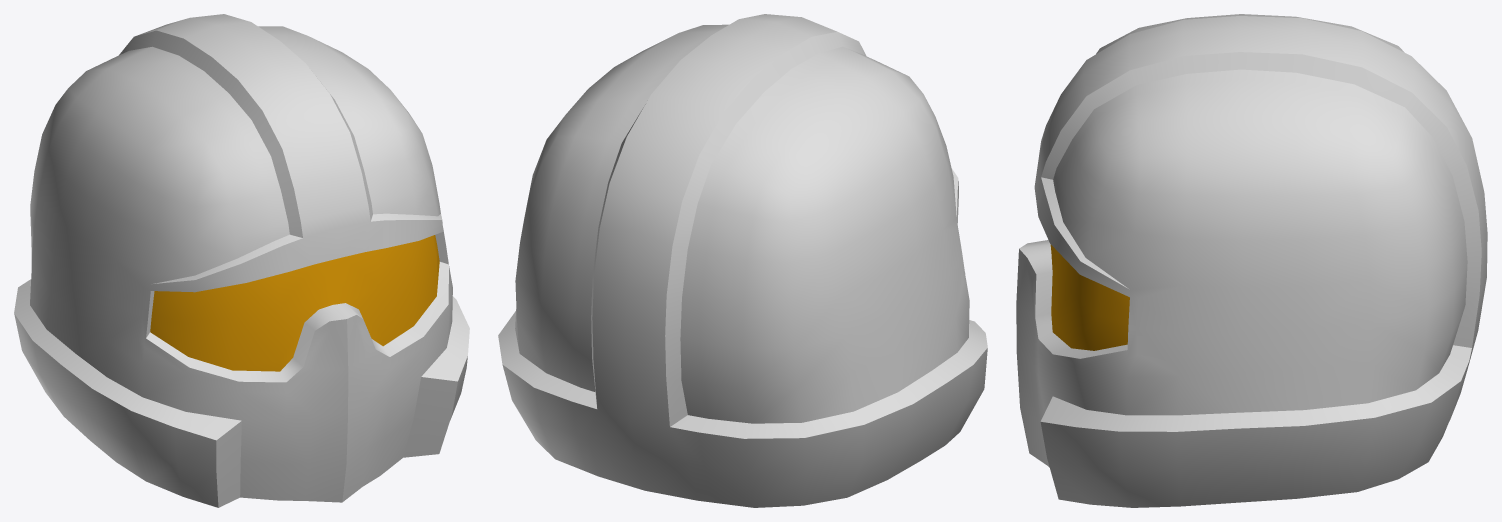
Rendered from HellDiver_Shlem_01a.fbx.
3 views of the same model, side by side, from view 1: azimuth 30°, elevation 25°; view 2: azimuth 150°, elevation 25°; view 3: azimuth 270°, elevation 25° (orthographic). The views are drawn at different scales.
Visible parts, largest first — view 1: HellDiver_Shlem_01a; view 2: HellDiver_Shlem_01a; view 3: HellDiver_Shlem_01a.
Boxes of the visible parts, x1,y1,x2,y2 form: HellDiver_Shlem_01a: (14, 14, 469, 507); HellDiver_Shlem_01a: (498, 14, 987, 507); HellDiver_Shlem_01a: (1016, 14, 1487, 507).
Bounding box in the file's own units: 0.4782 × 0.4774 × 0.4799.
